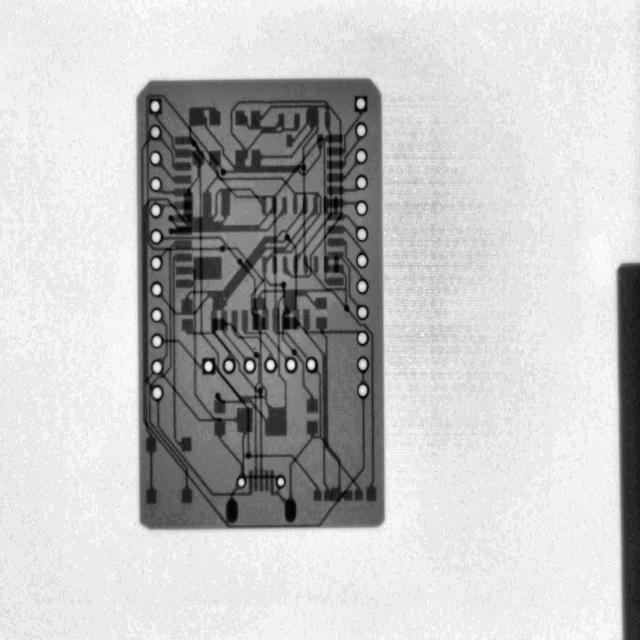Both: (146, 174, 166, 195), (240, 356, 260, 377), (352, 120, 370, 140), (354, 277, 371, 296), (304, 355, 320, 375), (354, 225, 370, 244), (148, 202, 164, 220), (149, 280, 164, 299), (354, 199, 369, 217), (149, 254, 164, 272), (150, 384, 165, 402), (356, 355, 370, 374), (149, 228, 163, 246), (150, 358, 164, 376), (284, 356, 298, 374), (356, 330, 370, 347), (222, 357, 236, 374), (150, 306, 163, 324), (355, 253, 369, 269), (150, 333, 164, 349), (202, 358, 216, 374), (355, 148, 368, 165), (356, 304, 369, 321), (357, 382, 370, 399), (149, 98, 162, 115), (149, 150, 162, 167), (264, 357, 277, 374), (355, 174, 368, 190), (355, 96, 368, 112), (150, 124, 162, 140), (236, 474, 247, 489), (276, 475, 285, 489)
L1: (277, 159, 417, 503), (175, 133, 346, 362), (152, 107, 259, 465), (242, 370, 396, 542), (132, 401, 264, 515), (145, 95, 227, 251), (148, 240, 192, 504), (205, 238, 291, 334), (172, 263, 222, 425), (172, 253, 193, 451), (231, 307, 290, 370), (221, 306, 275, 368), (323, 245, 368, 310), (323, 107, 372, 164), (284, 347, 323, 417), (323, 230, 374, 282), (209, 417, 247, 480), (237, 256, 266, 332), (322, 130, 366, 178), (214, 308, 250, 365), (151, 135, 196, 179), (323, 217, 365, 264), (284, 234, 301, 330), (145, 372, 157, 504), (205, 308, 233, 361), (303, 309, 360, 334), (323, 154, 360, 190), (153, 160, 195, 190), (254, 352, 260, 492), (258, 387, 264, 492), (327, 212, 359, 230), (158, 318, 168, 363), (281, 281, 290, 330), (159, 185, 192, 198), (225, 499, 238, 523), (327, 186, 359, 195), (160, 200, 192, 209), (327, 199, 358, 208), (214, 393, 226, 414), (169, 226, 192, 235), (168, 214, 192, 222), (176, 279, 193, 288), (265, 470, 269, 492), (362, 373, 366, 382)
L2: (21, 136, 361, 578), (149, 147, 330, 346), (184, 99, 342, 278), (250, 288, 349, 501), (147, 347, 282, 476), (299, 315, 365, 506), (175, 296, 276, 405), (143, 198, 185, 388), (249, 433, 327, 518), (263, 194, 329, 260), (259, 189, 317, 257), (161, 229, 241, 261), (251, 310, 268, 405), (223, 191, 266, 225), (214, 393, 268, 420), (159, 242, 226, 258), (158, 294, 195, 318), (181, 172, 199, 219), (193, 256, 222, 280), (228, 486, 238, 500), (245, 475, 278, 479), (171, 220, 180, 229)
